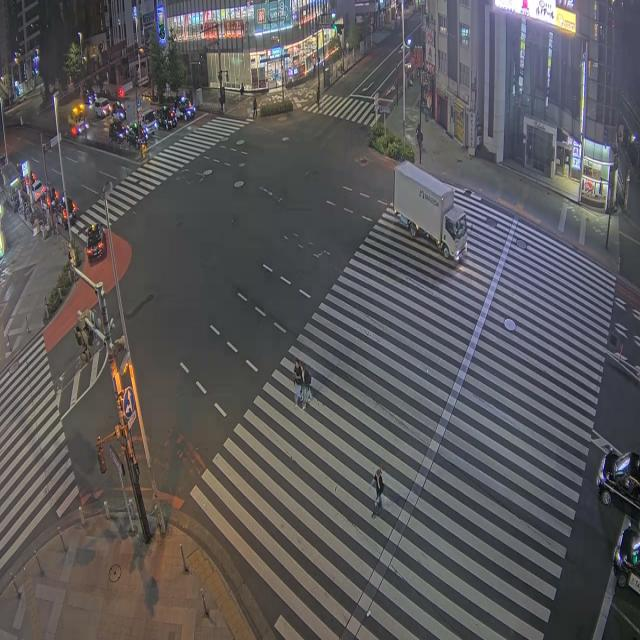car: (86, 224, 105, 261), (126, 123, 148, 148), (156, 105, 177, 130), (61, 195, 79, 223), (174, 96, 195, 120), (140, 109, 158, 135), (109, 120, 126, 142), (111, 101, 126, 122), (32, 180, 46, 202), (47, 183, 59, 208), (55, 203, 67, 227), (84, 89, 96, 106)
truck: (393, 162, 466, 259), (68, 103, 88, 135)
van: (141, 109, 158, 135), (95, 97, 110, 118)
